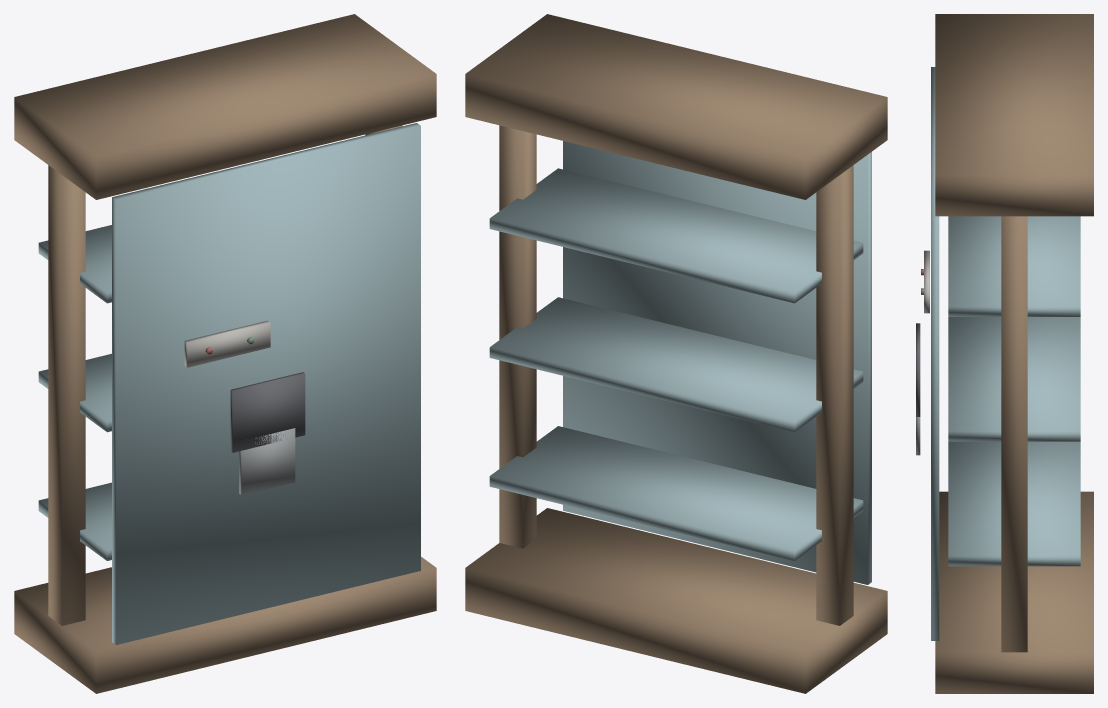
The model's file is glass_display_cabinet__weathered.glb.
3 renders of one model, left to right at view 1: azimuth 30°, elevation 25°; view 2: azimuth 150°, elevation 25°; view 3: azimuth 270°, elevation 25°, orthographic. The views are drawn at different scales.
Parts seen in each view (by area): view 1: world; view 2: world; view 3: world.
Boxes of the visible parts, bbox=[...] form: world: bbox=[14, 14, 436, 693]; world: bbox=[465, 14, 887, 693]; world: bbox=[916, 14, 1093, 693].
Bounding box in the file's own units: 1.15 × 1.73 × 0.538.
